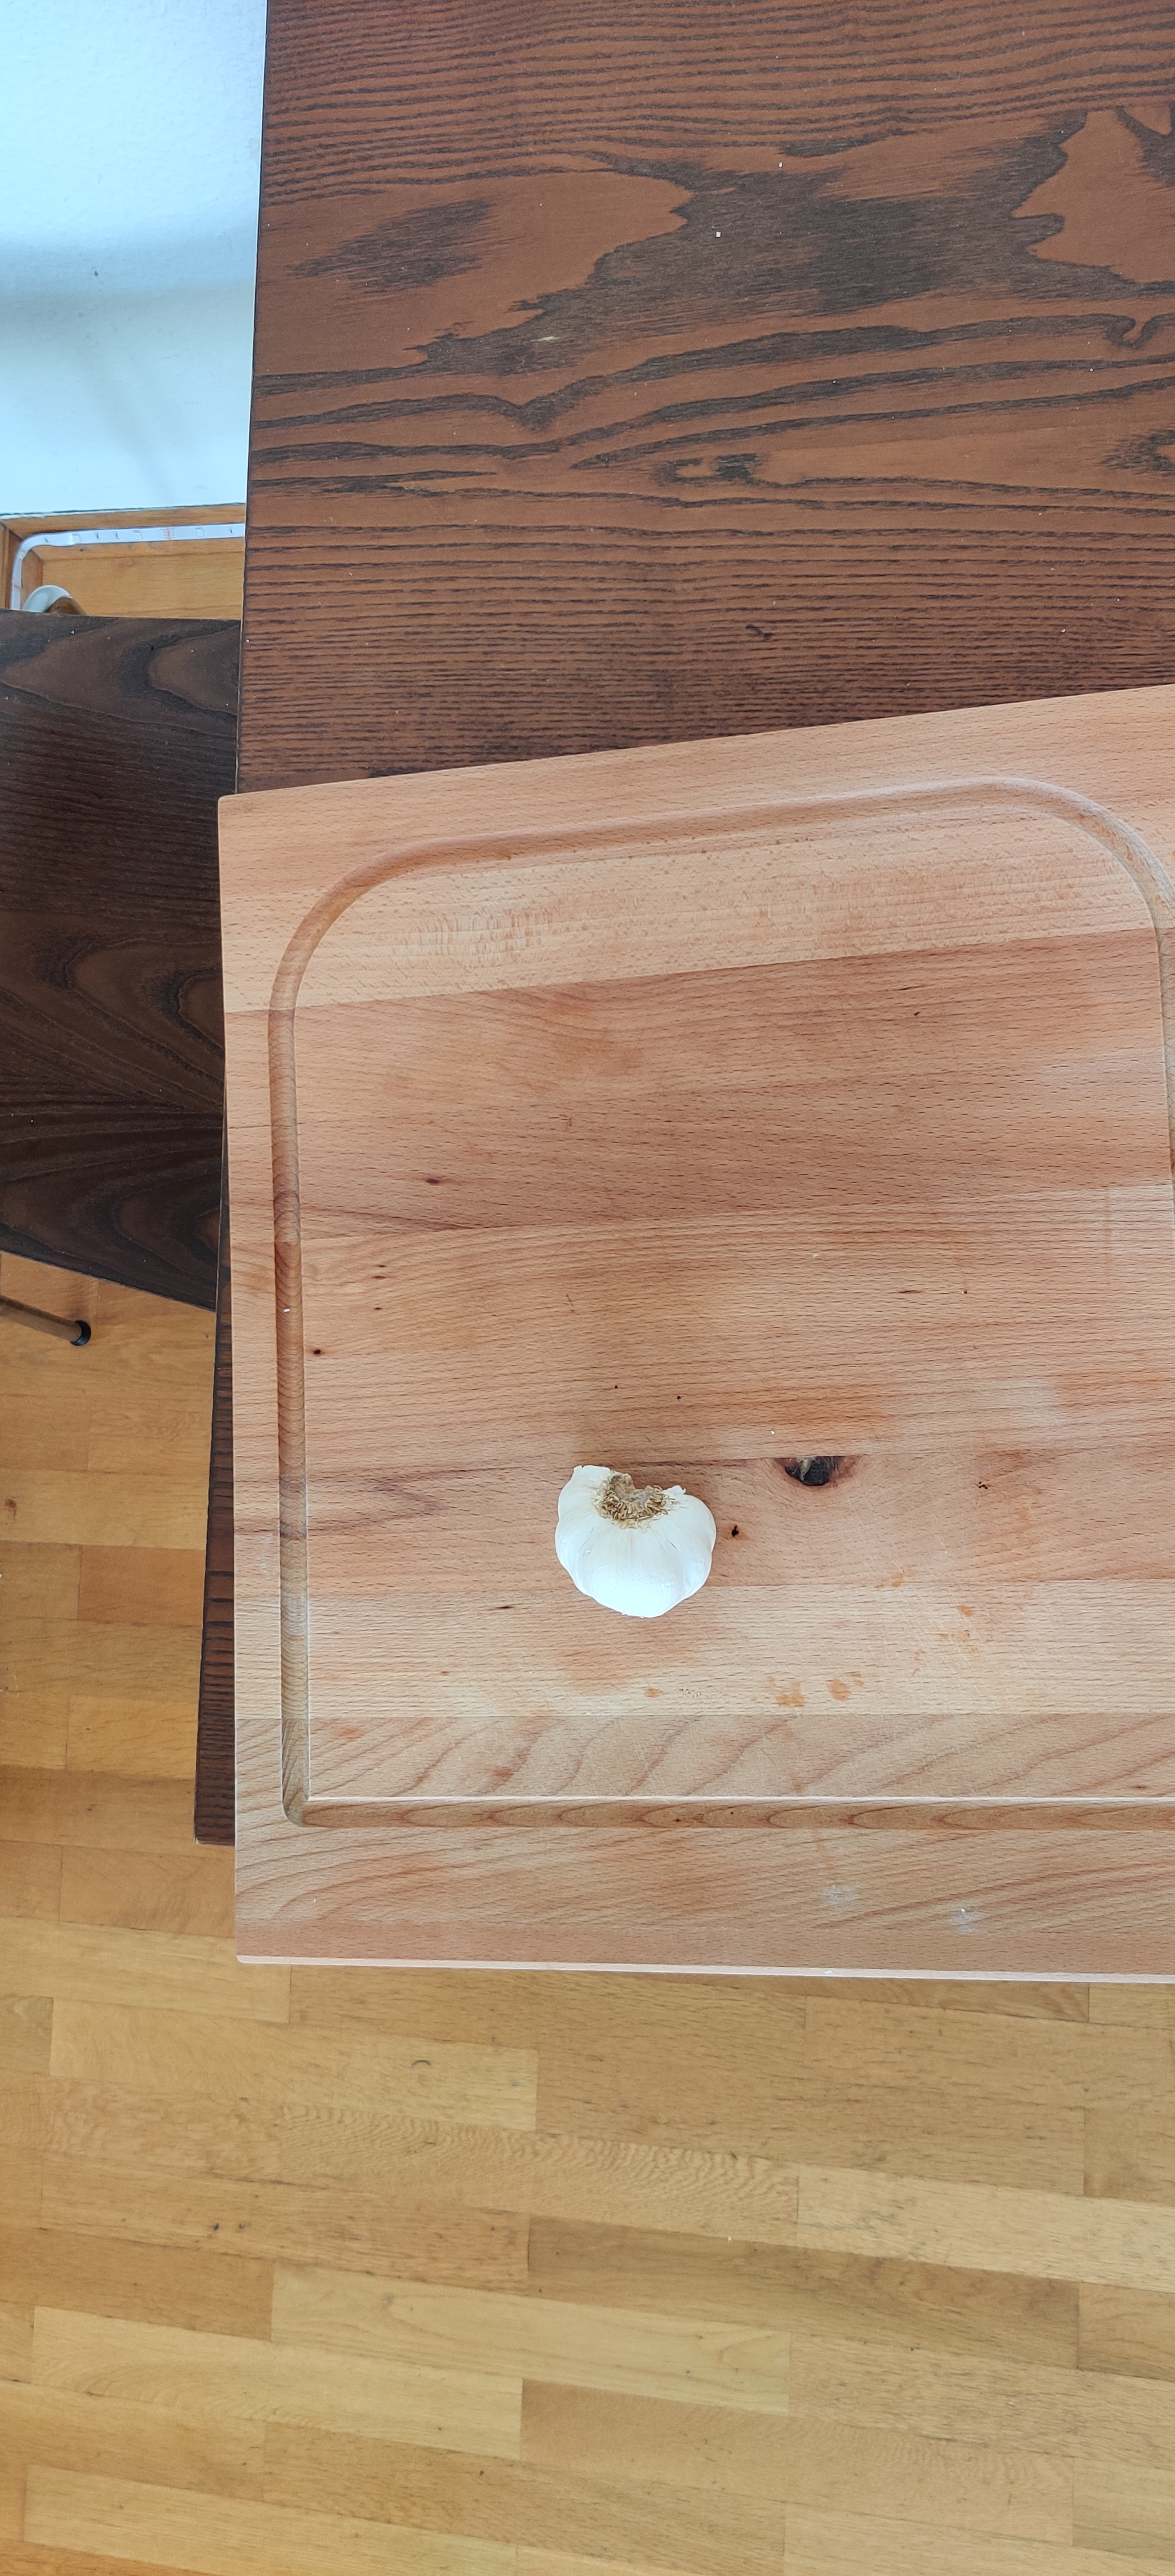Knoblauch: (555, 1459, 721, 1618)
